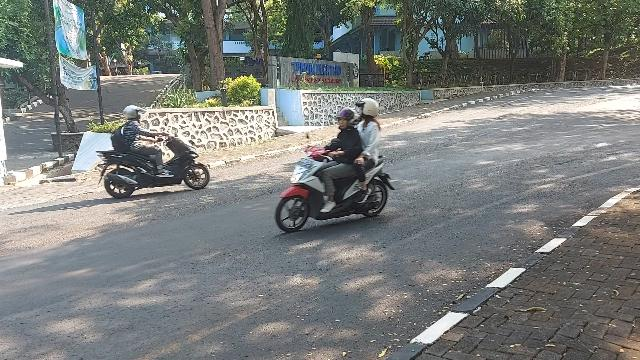helm: (357, 99, 379, 120), (338, 108, 360, 128), (125, 106, 148, 120)
motor: (276, 134, 396, 234), (97, 124, 212, 200)
